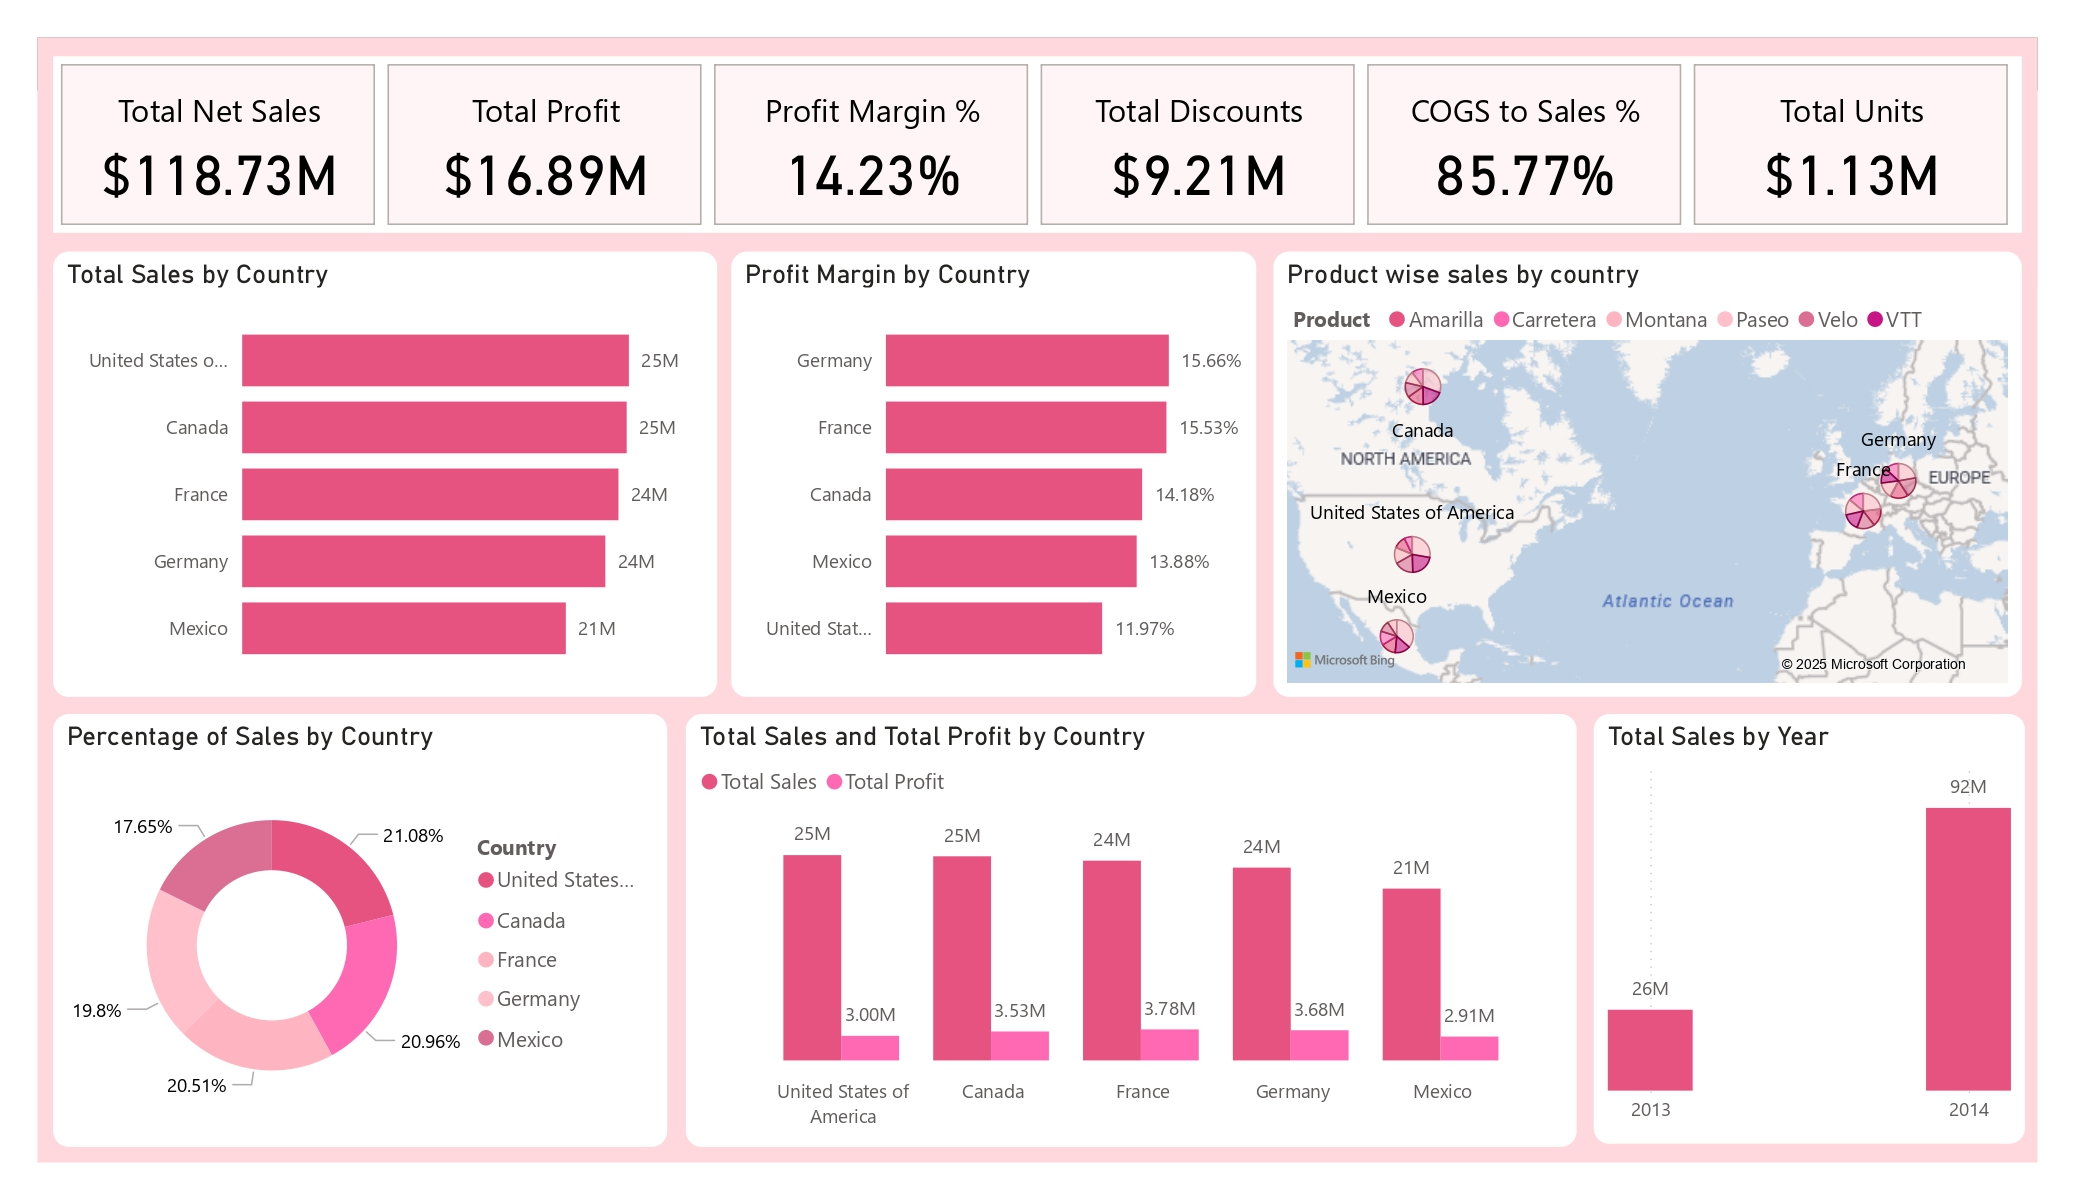

Layout of this report page (visuals, bound fields, positions):
{"tool":"powerbi","page":{"name":"Page 1","canvas":[1280,720],"ordinal":0},"visuals":[{"type":"cardVisual","fields":{"Data":["financial_data.Total Net Sales","financial_data.Total Profit","financial_data.Profit Margin %","financial_data.Total Discounts","financial_data.COGS to Sales %","financial_data.Total Units"]},"box":[10.1,97.9,1261.4,106.6],"z":0},{"type":"barChart","fields":{"Y":["financial_data.Total Sales"],"Category":["financial_data.Country"]},"box":[10.1,216,385.9,267.8],"z":1000},{"type":"donutChart","title":"Percentage of Sales by Country","fields":{"Category":["financial_data.Country"],"Y":["financial_data.Total Sales"]},"box":[10.1,493.9,385.9,216],"z":2000},{"type":"map","title":"Product wise sales by country","fields":{"Category":["financial_data.Country"],"Series":["financial_data. Product "],"Size":["financial_data.Product Sales %"]},"box":[805,216,466.6,267.8],"z":3000},{"type":"barChart","title":"Profit Margin by Country","fields":{"Category":["financial_data.Country"],"Y":["financial_data.Profit Margin %"]},"box":[406.1,216,393.1,267.8],"z":4000},{"type":"clusteredColumnChart","fields":{"Y":["financial_data.Total Sales","financial_data.Total Profit"],"Category":["financial_data.Country"]},"box":[406.1,493.9,557.3,216],"z":5000},{"type":"clusteredColumnChart","fields":{"Y":["financial_data.Total Sales"],"Category":["DimDate.Year"]},"box":[973.4,493.9,298.1,216],"z":6000},{"type":"textbox","box":[10.1,10.1,1261.4,77.8],"z":7000},{"type":"image","box":[325.4,23,57.6,50.4],"z":8000}]}

Visuals, with their boxes in screenshot pixels (x1, y1, x2, y2):
cardVisual - financial_data.Total Net Sales x financial_data.Total Profit: <bbox>53, 190, 2024, 357</bbox>
barChart - financial_data.Total Sales x financial_data.Country: <bbox>53, 375, 656, 793</bbox>
"Percentage of Sales by Country" donutChart: <bbox>53, 809, 656, 1147</bbox>
"Product wise sales by country" map: <bbox>1295, 375, 2024, 793</bbox>
"Profit Margin by Country" barChart: <bbox>672, 375, 1286, 793</bbox>
clusteredColumnChart - financial_data.Total Sales x financial_data.Total Profit: <bbox>672, 809, 1543, 1147</bbox>
clusteredColumnChart - financial_data.Total Sales x DimDate.Year: <bbox>1558, 809, 2024, 1147</bbox>
textbox: <bbox>53, 53, 2024, 175</bbox>
image: <bbox>546, 73, 636, 152</bbox>
